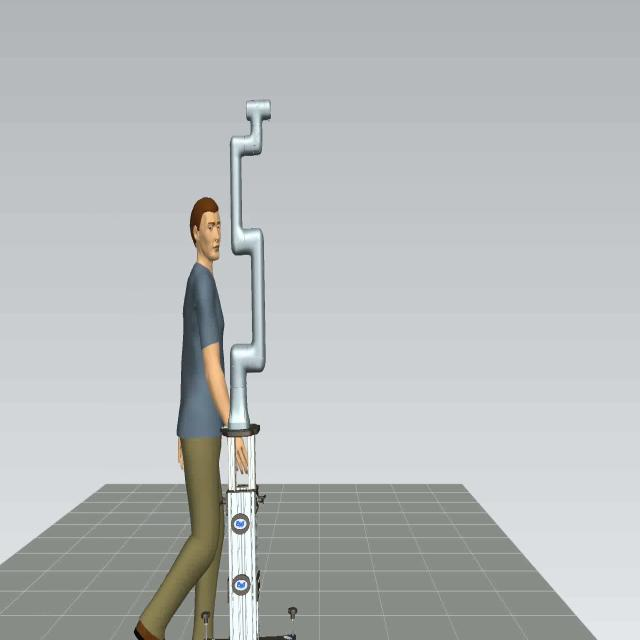human: (134, 196, 248, 638)
robot: (202, 97, 289, 445)
